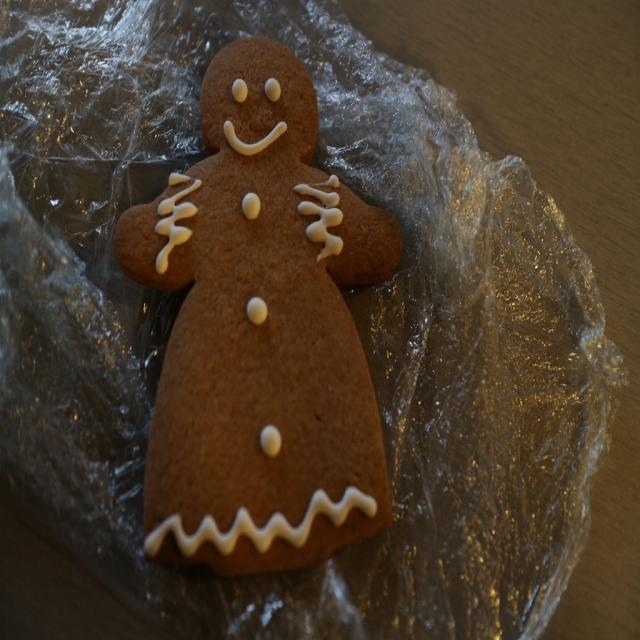Cookie: (114, 34, 404, 580)
